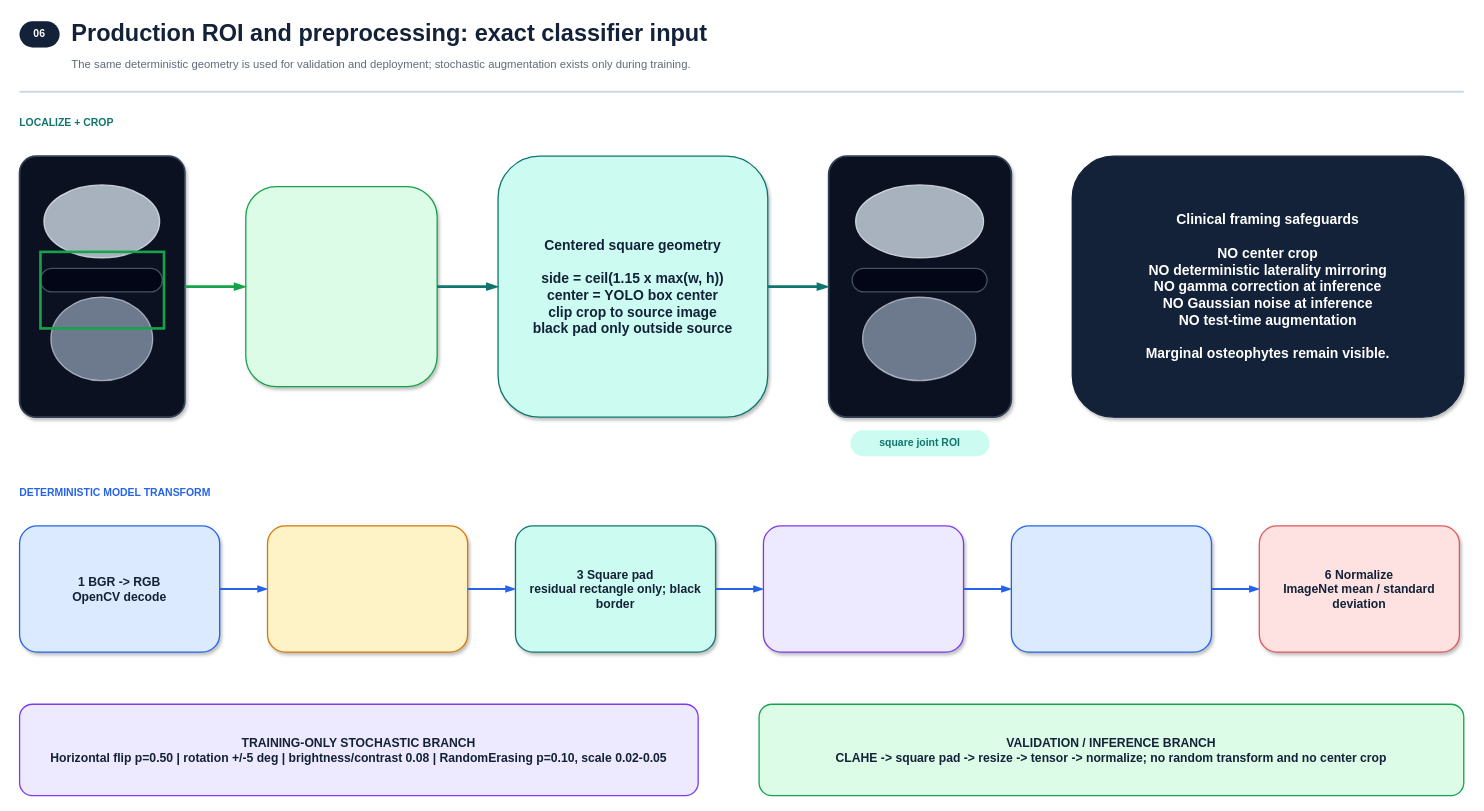
This 1484x811 diagram has some shape labels left out. Each missing label, with the centre of its shape:
2 LAB CLAHE L channel; clip 1.25; tile 8 x 8: [368,589]
4 Resize directly to 384 x 384: [864,589]
5 ToTensor float channels in [0, 1]: [1112,589]
YOLOv8 confidence >= 0.45 Detect each joint Sort left-to-right: [342,287]
